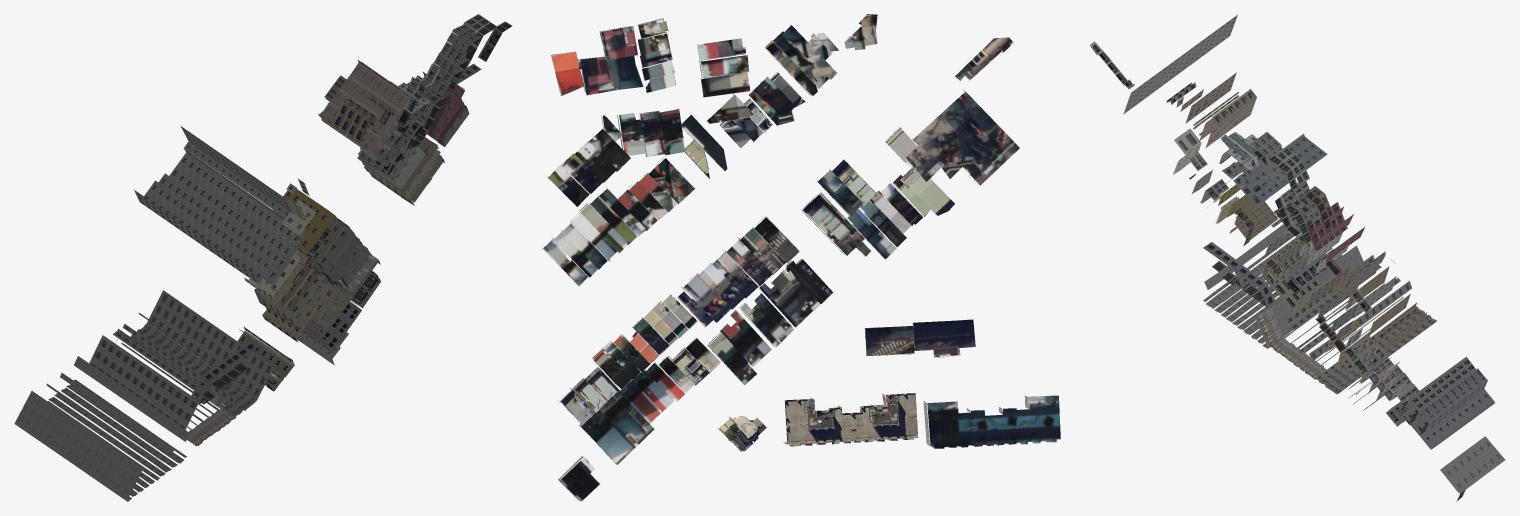
The model's file is tile_LOD4_r3_c8.glb.
The picture shows the model from 3 angles, left to right: view 1: azimuth 30°, elevation 25°; view 2: azimuth 150°, elevation 25°; view 3: azimuth 270°, elevation 25°; orthographic projection. The views are drawn at different scales.
Size of the model in its own units: 215 by 169 by 165.
Materials: 312 (312 with a texture image).
